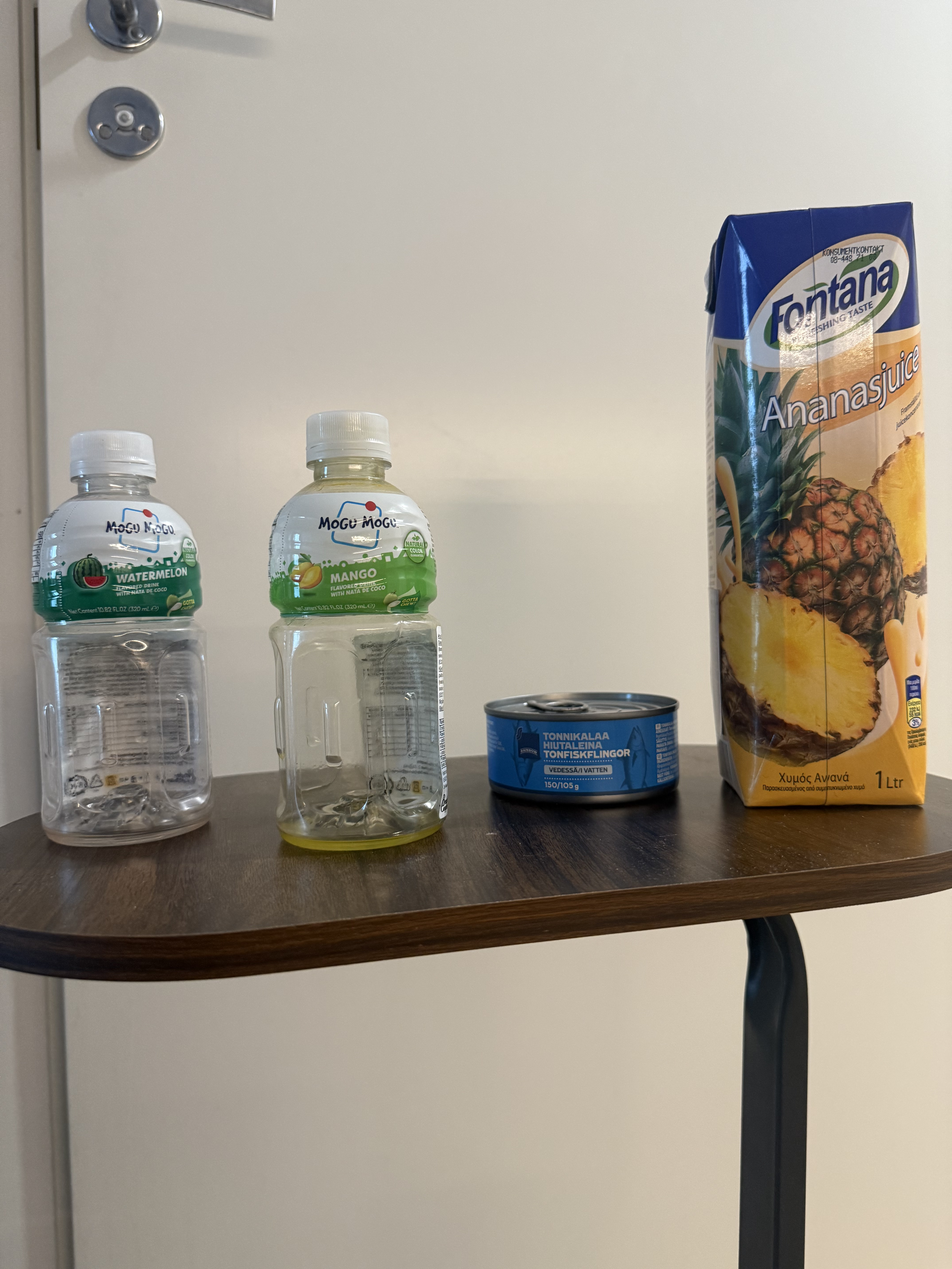Dryckeskartong: (708, 210, 930, 808)
Konservburk: (486, 698, 681, 800)
Pantburk: (259, 412, 457, 852), (24, 432, 214, 840)
